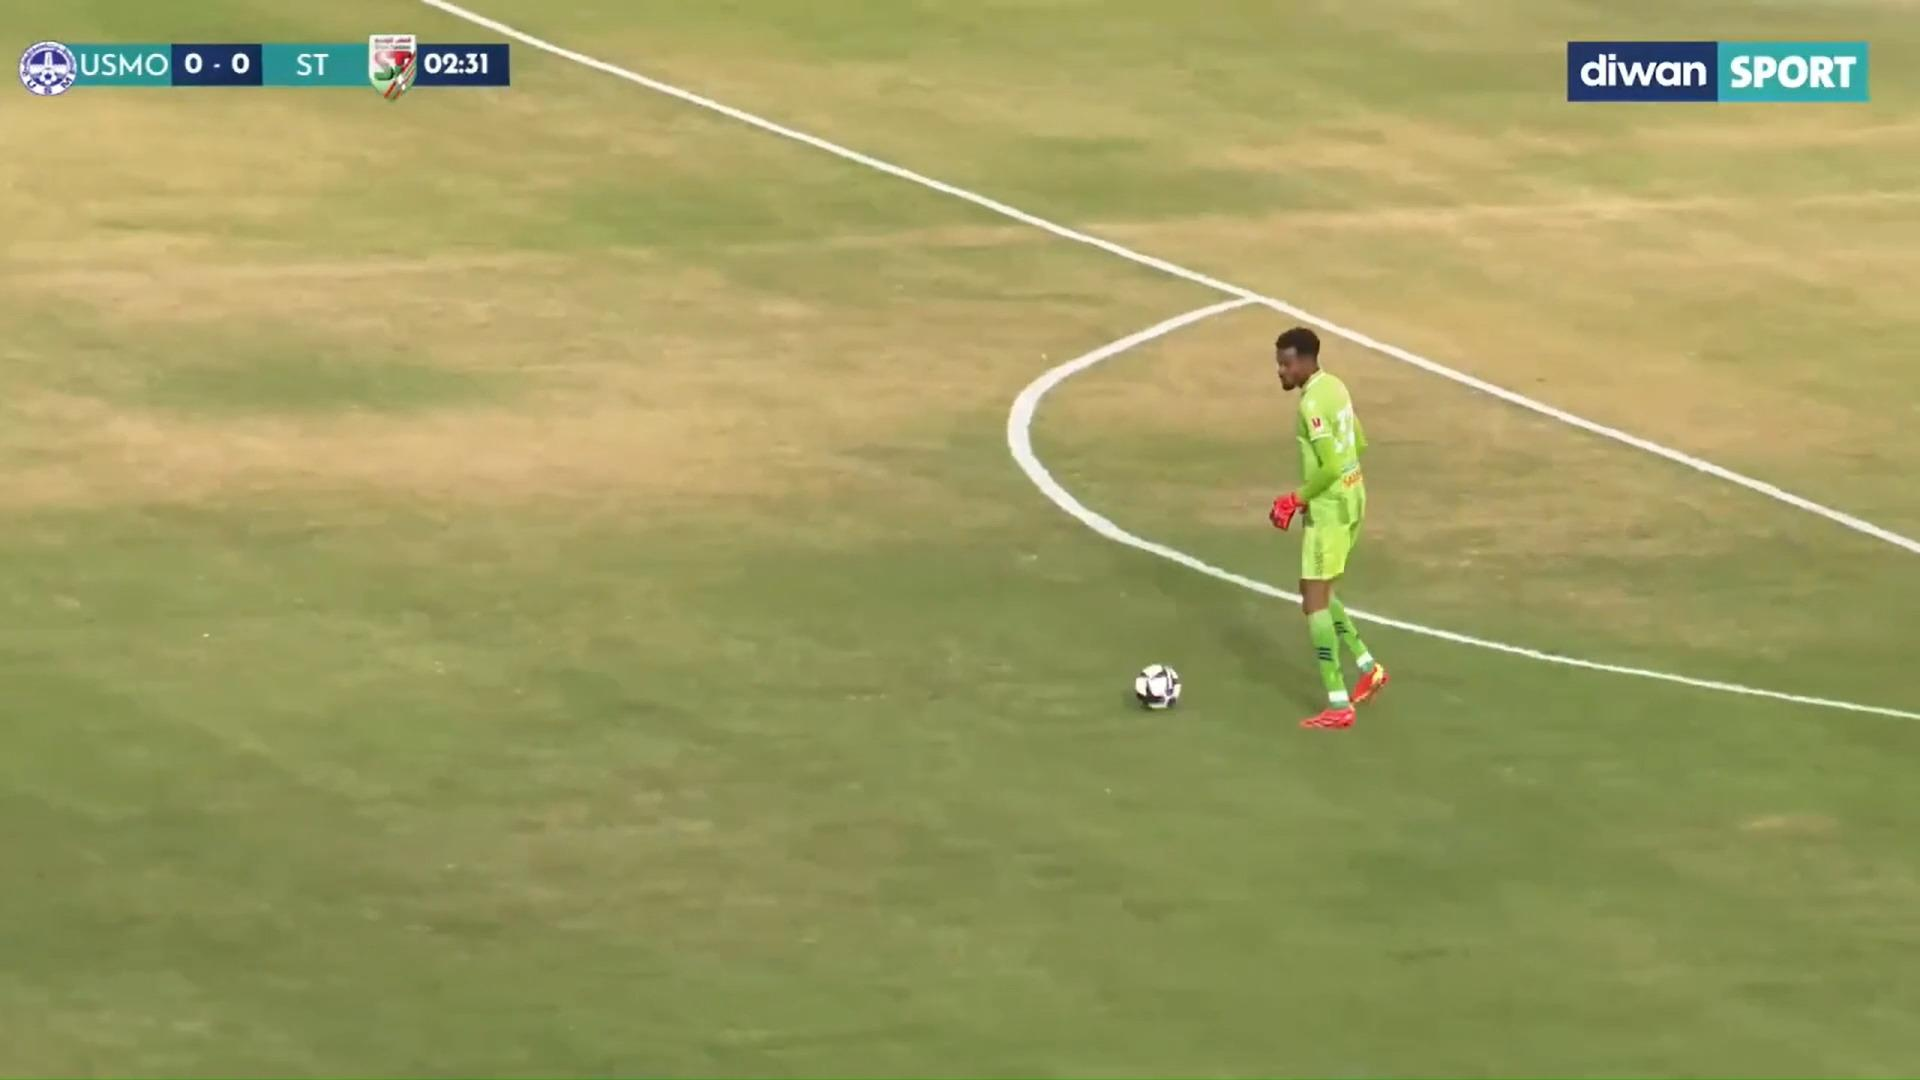ball: (1097, 630, 1207, 732)
goalkeeper: (1232, 289, 1448, 744)
